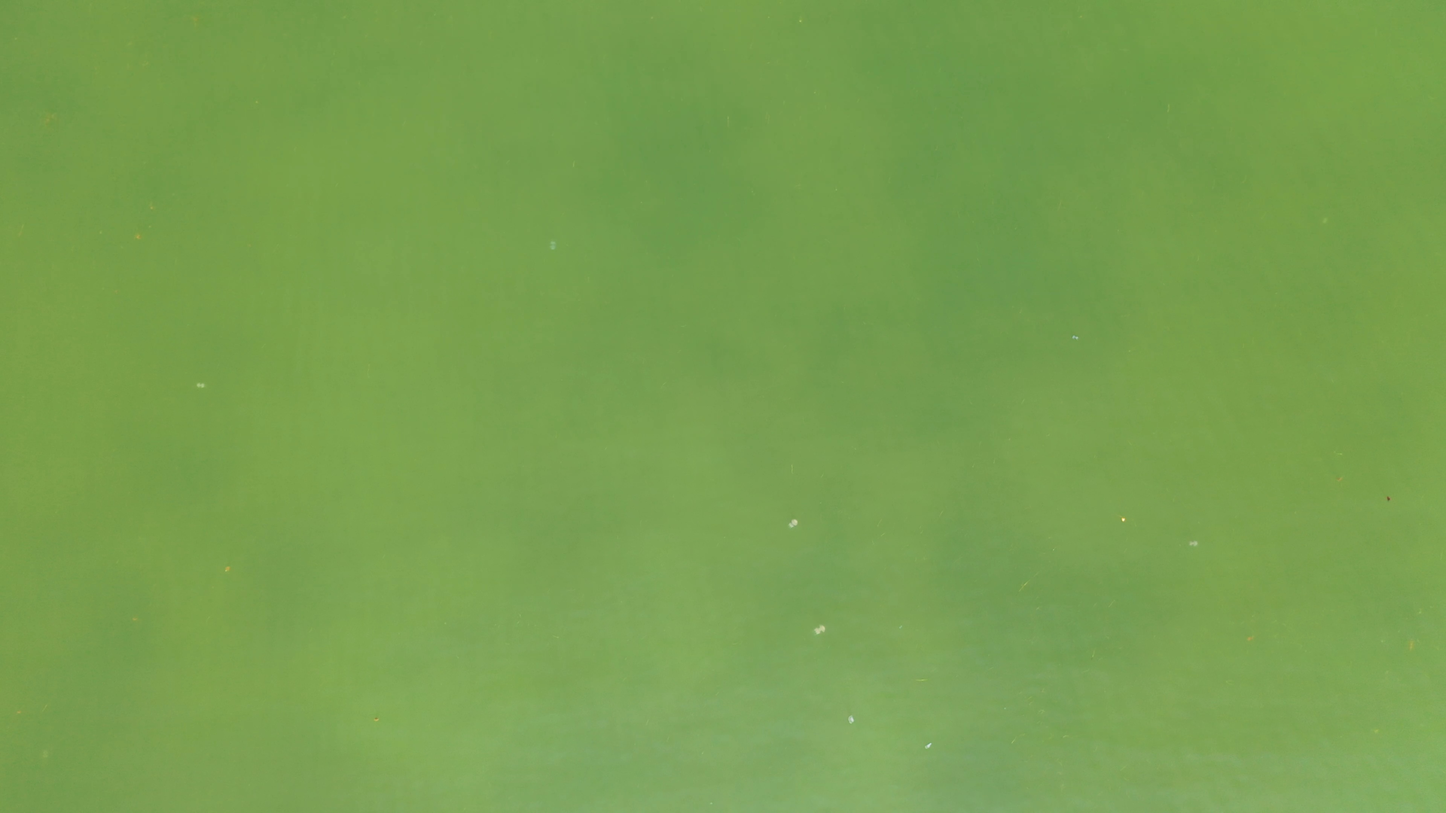meduse: (814, 626, 825, 635), (196, 380, 205, 389), (549, 240, 557, 250), (789, 520, 798, 528), (1190, 540, 1199, 547), (1072, 334, 1080, 341)
